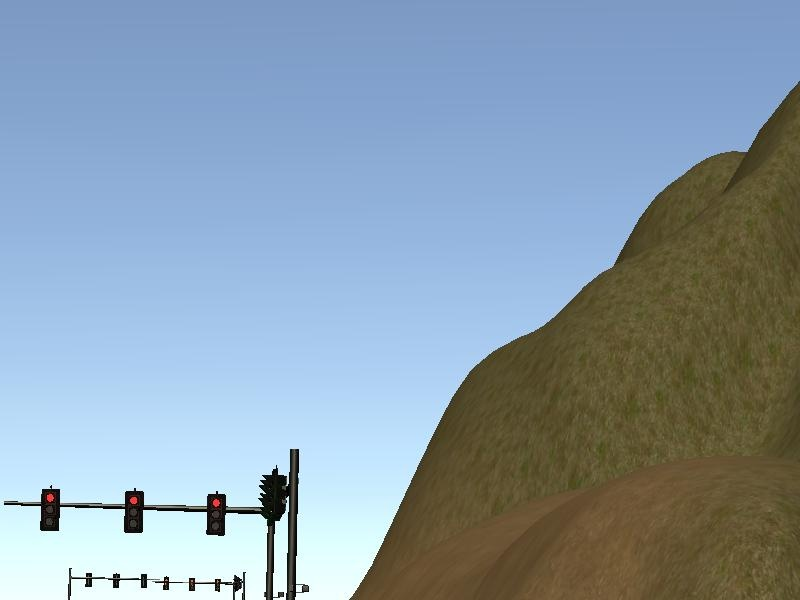red: (122, 490, 147, 537), (39, 485, 62, 533), (205, 490, 227, 537)
